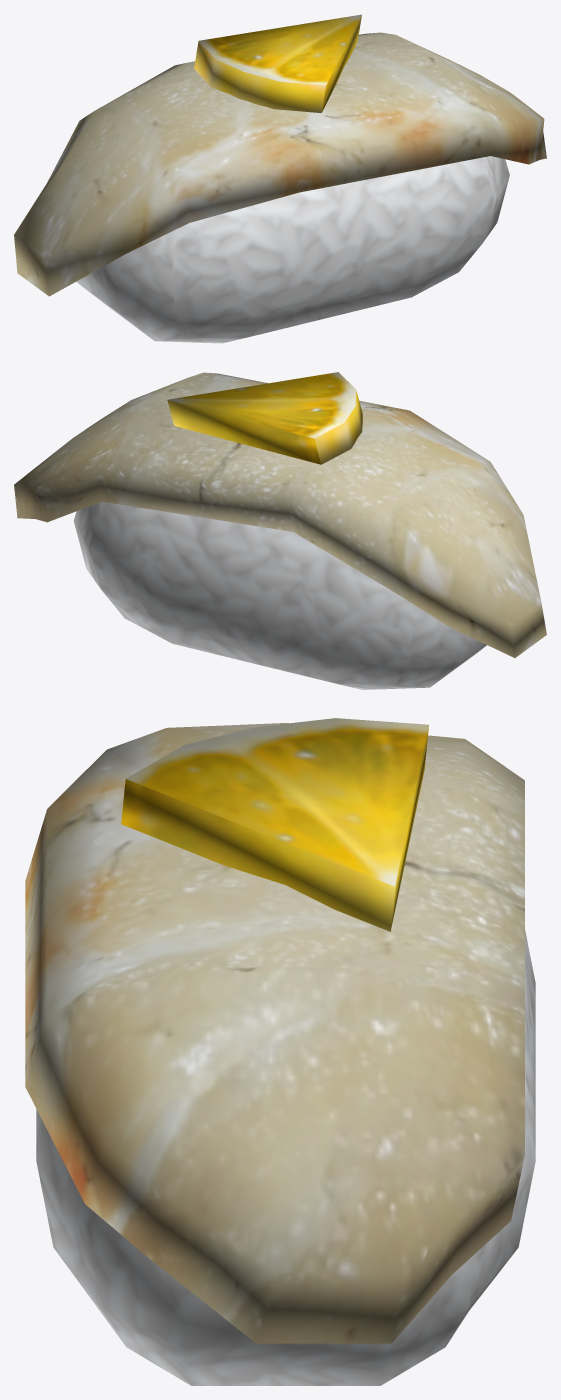
The model's file is sea_bream_4.fbx.
The picture shows the model from 3 angles, top to bottom: view 1: azimuth 30°, elevation 25°; view 2: azimuth 150°, elevation 25°; view 3: azimuth 270°, elevation 25°; orthographic projection. The views are drawn at different scales.
Visible parts, largest first — view 1: sea_bream_4; view 2: sea_bream_4; view 3: sea_bream_4.
Part boxes in pixels (x1,y1,x2,y2): sea_bream_4: (14, 14, 546, 343); sea_bream_4: (14, 372, 546, 689); sea_bream_4: (25, 718, 535, 1385).
Bounding box in the file's own units: 7.17 × 3.45 × 3.2.
